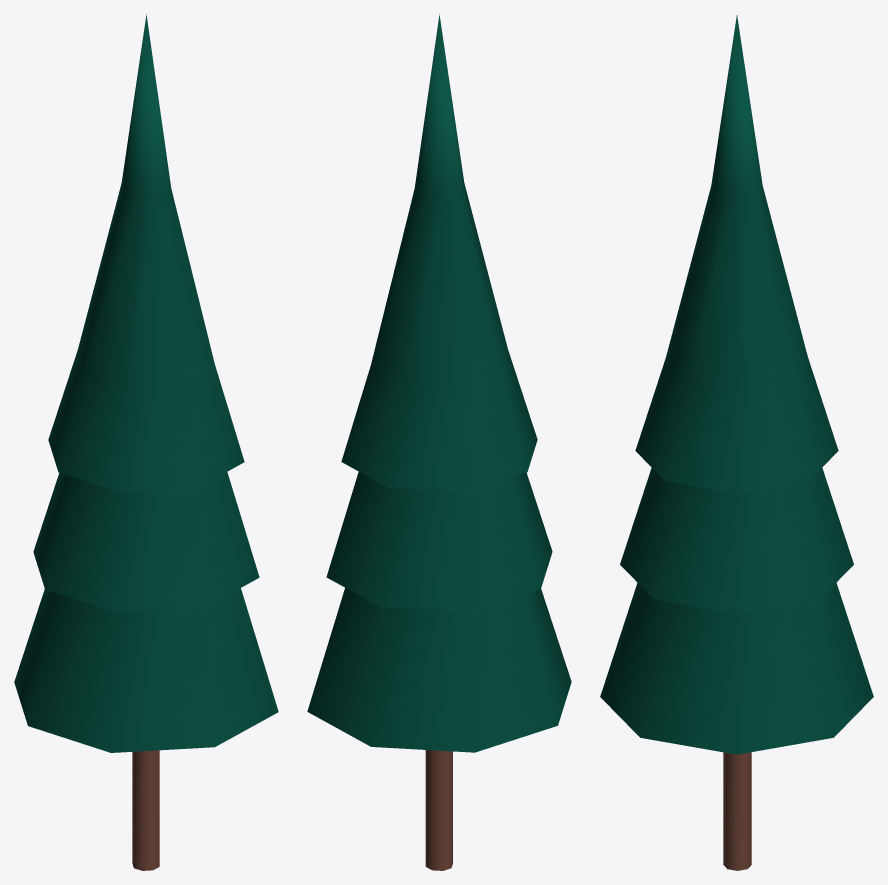
Rendered from firtree_1_2_world_ap_0_lev1.glb.
The picture shows the model from 3 angles, left to right: view 1: azimuth 30°, elevation 25°; view 2: azimuth 150°, elevation 25°; view 3: azimuth 270°, elevation 25°; orthographic projection.
Visible parts, largest first — view 1: firtree_1_2_world_ap_0_lev1; view 2: firtree_1_2_world_ap_0_lev1; view 3: firtree_1_2_world_ap_0_lev1.
Part boxes in pixels (box(x1,y1,x2,y2)): firtree_1_2_world_ap_0_lev1: box(14, 14, 278, 870); firtree_1_2_world_ap_0_lev1: box(307, 14, 571, 870); firtree_1_2_world_ap_0_lev1: box(600, 15, 873, 870).
Bounding box in the file's own units: 0.8022 × 2.75 × 0.8022.
1 material, 1 textured.
